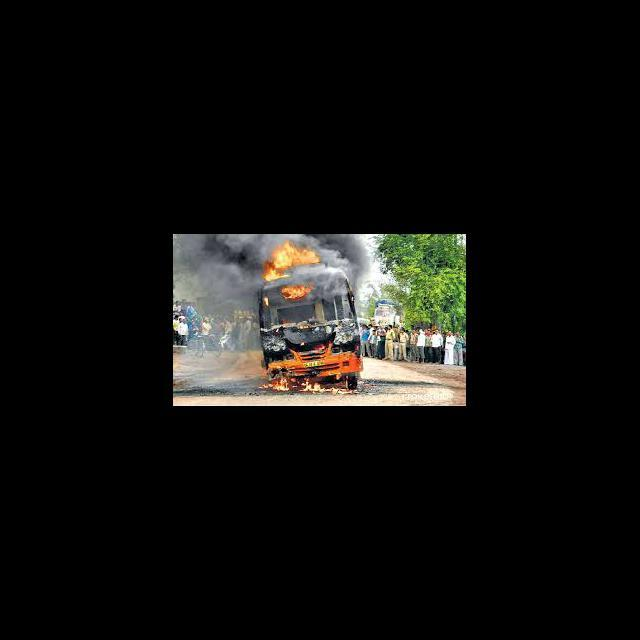Fire: (264, 372, 360, 397), (264, 241, 320, 282), (280, 284, 317, 298), (306, 338, 334, 355)
Smoke: (176, 235, 263, 392), (322, 234, 375, 297)
